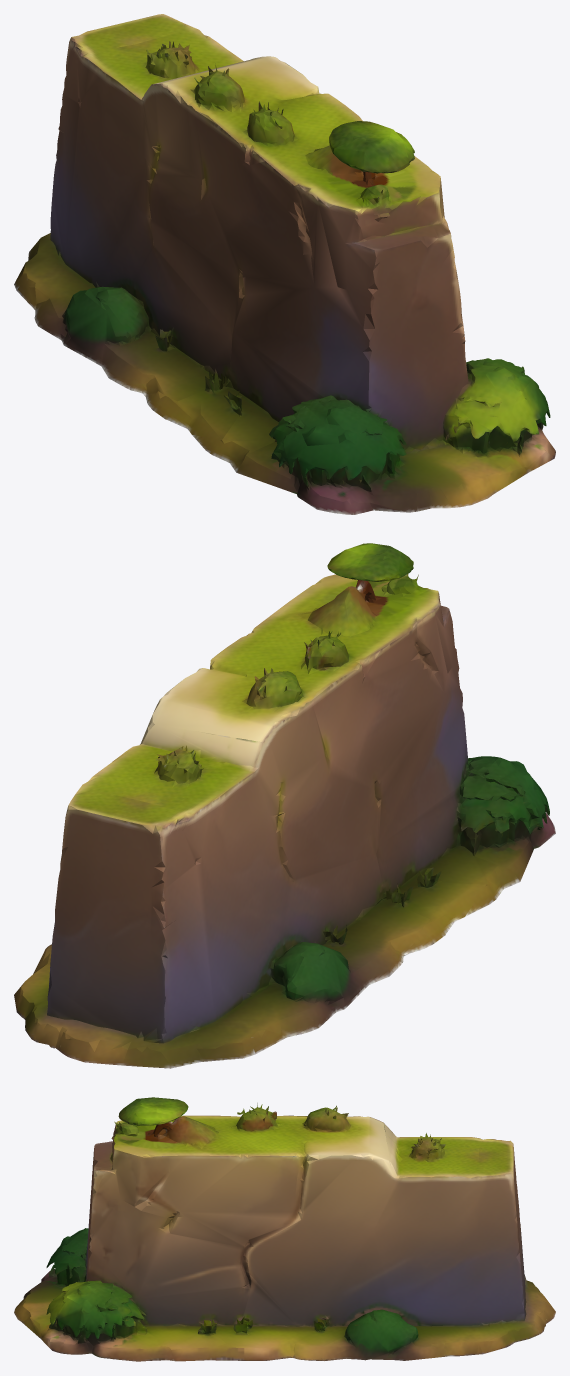
The model's file is pillar.glb.
3 renders of one model, top to bottom at view 1: azimuth 30°, elevation 25°; view 2: azimuth 150°, elevation 25°; view 3: azimuth 270°, elevation 25°, orthographic. The views are drawn at different scales.
Visible parts, largest first — view 1: Rodin_pillar; view 2: Rodin_pillar; view 3: Rodin_pillar.
Part boxes in pixels (<box>): Rodin_pillar: <box>14,14,555,514</box>; Rodin_pillar: <box>14,543,555,1068</box>; Rodin_pillar: <box>14,1097,555,1361</box>.
Size of the model in its own units: 3.65 by 3.66 by 8.54.
1 material, 1 textured.
